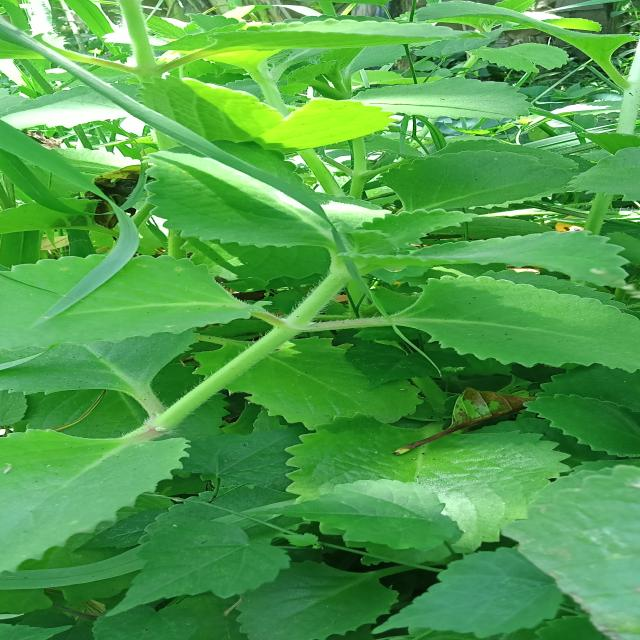Oregano: (240, 384, 636, 578), (319, 129, 640, 289), (326, 280, 640, 400), (0, 230, 273, 364)
